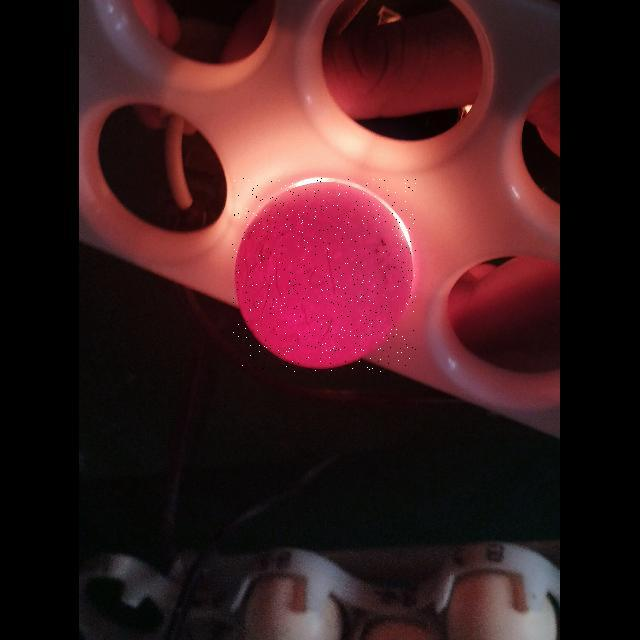Infertile: (232, 178, 416, 372)
